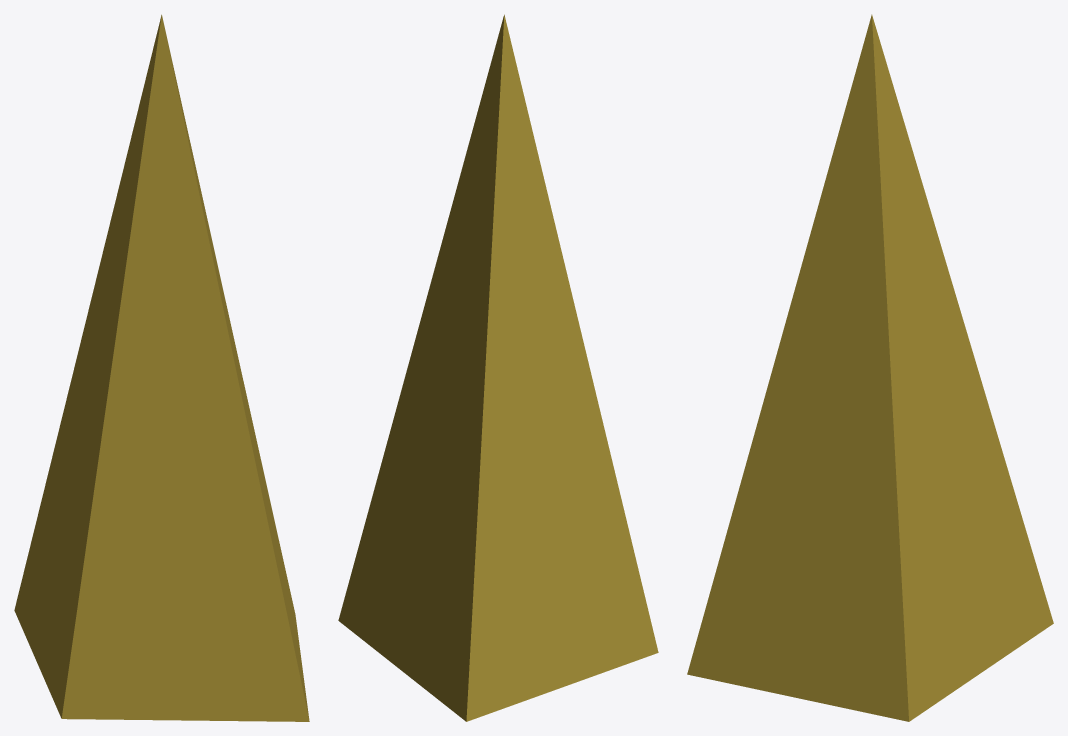
The model's file is TreeAutumn4_Alt1.fbx.
The picture shows the model from 3 angles, left to right: view 1: azimuth 30°, elevation 25°; view 2: azimuth 150°, elevation 25°; view 3: azimuth 270°, elevation 25°; orthographic projection. The views are drawn at different scales.
Visible parts, largest first — view 1: TreeAutumn4_Alt1; view 2: TreeAutumn4_Alt1; view 3: TreeAutumn4_Alt1.
Boxes of the visible parts, box(x1,y1,x2,y2) form: TreeAutumn4_Alt1: box(14, 14, 309, 721); TreeAutumn4_Alt1: box(338, 14, 658, 721); TreeAutumn4_Alt1: box(687, 14, 1053, 721).
Bounding box in the file's own units: 1.26 × 2.78 × 1.46.
